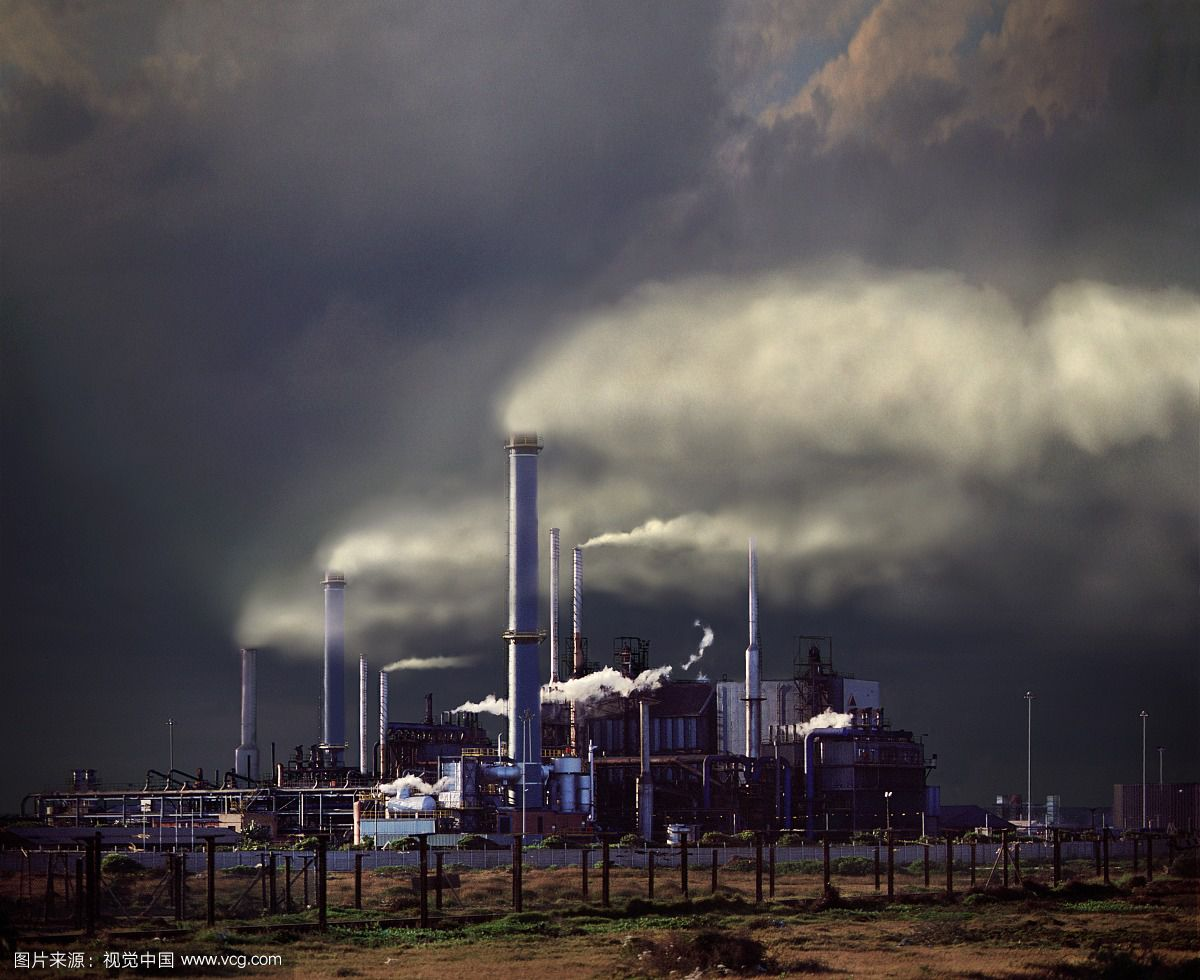dust: (478, 244, 1077, 482), (311, 502, 586, 619), (440, 659, 716, 734), (562, 510, 778, 598)
